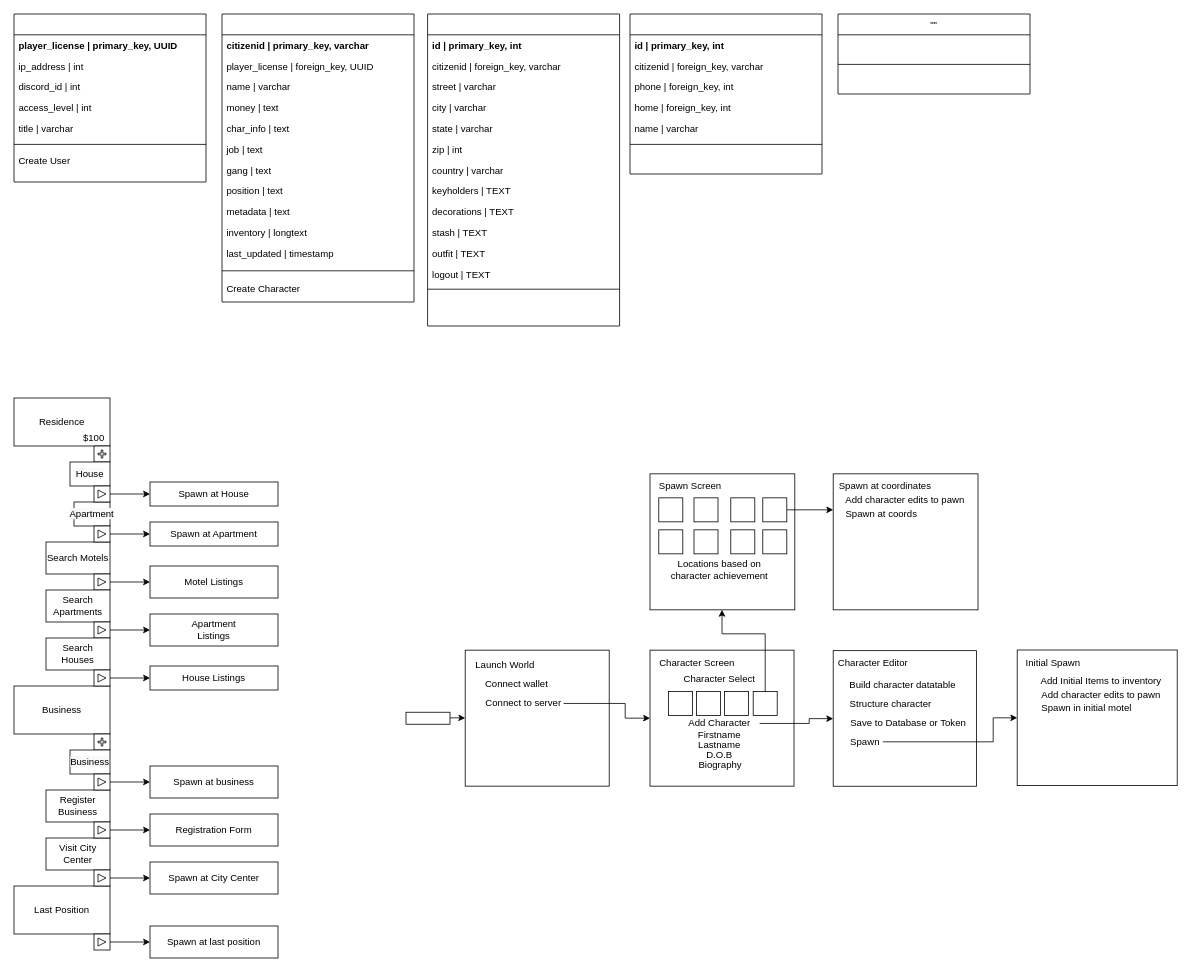
The diagram is 1191 pixels wide and 972 high, and some of its shapes have lost their labels. The box of each missing label's shape, as (x1, y1, x2, y2) in pixels:
Open.exe: (405, 711, 450, 724)
player_contacts: (629, 13, 822, 174)
player_houses: (427, 13, 620, 326)
players: (221, 13, 414, 302)
users: (13, 13, 206, 182)
